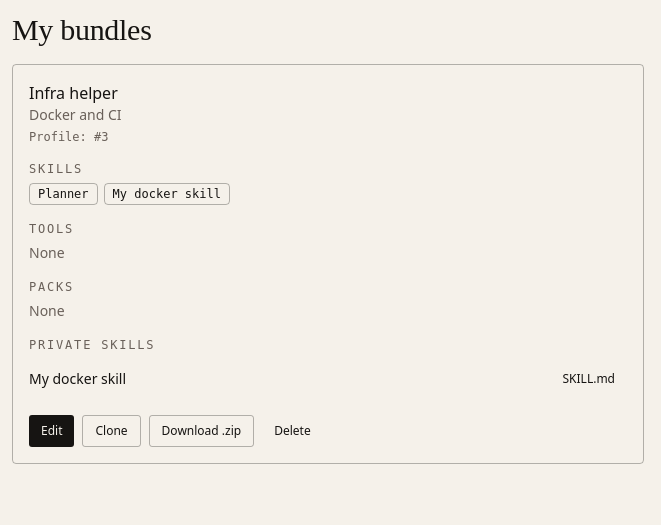
Test: MyBundles: file downloads › shows an error message on 404 instead of failing silently
Click the button "Download .zip" at x=201, y=431, box [149,415,254,447]
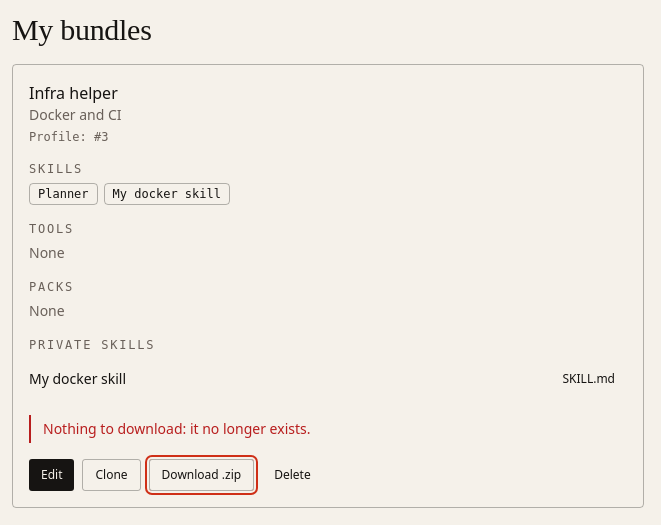
expect the text "Nothing to download: it no longer exists." is shown: met, box [29,415,627,443]
